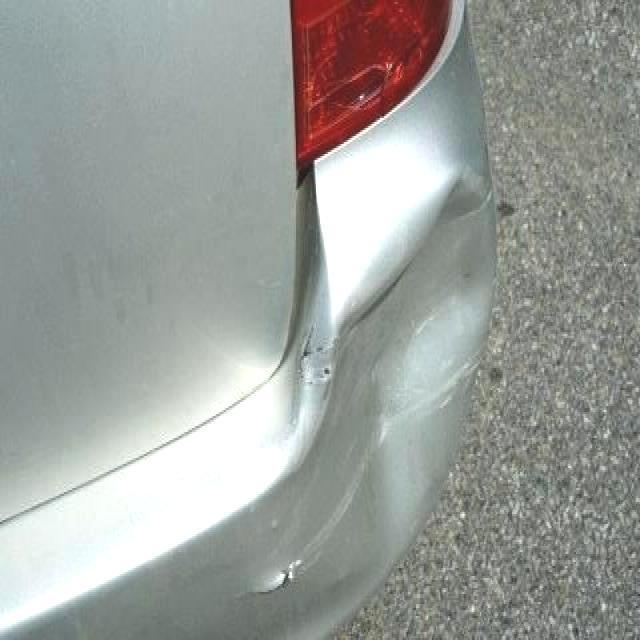minor: (222, 147, 495, 638)
moderate: (301, 323, 336, 412)
